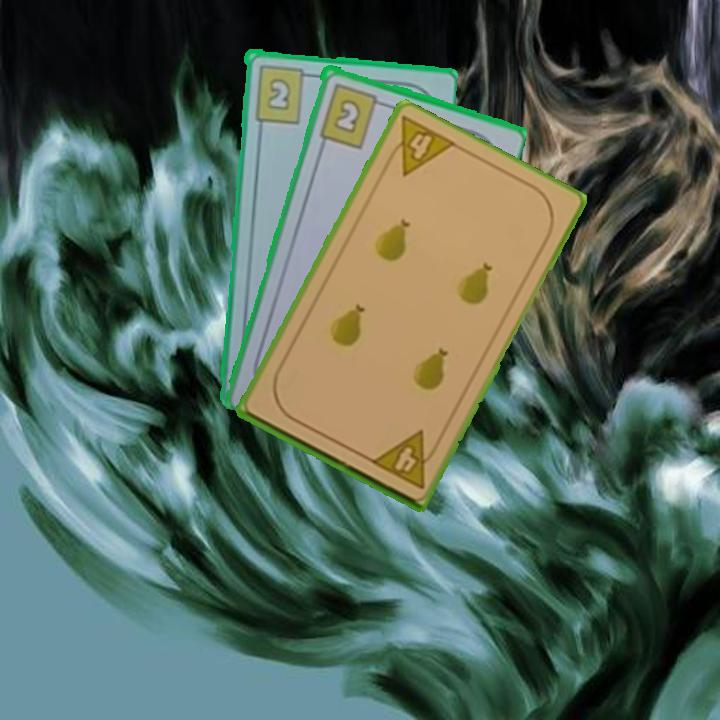2b: (315, 79, 388, 150), (250, 61, 316, 125)
4p: (379, 112, 459, 179), (367, 427, 443, 491)
